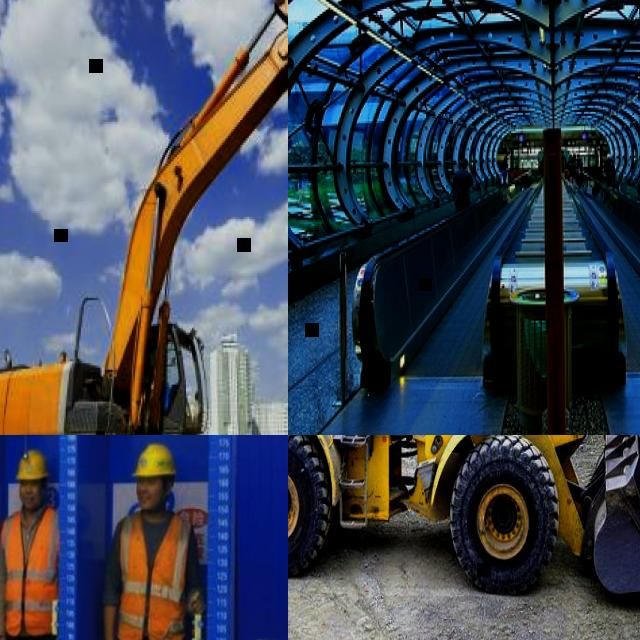Hardhat: (134, 446, 178, 479), (16, 452, 50, 483)
NO-Hardhat: (458, 160, 468, 170), (606, 156, 610, 162), (572, 158, 574, 163), (504, 166, 506, 170)
NO-Mask: (139, 489, 166, 510), (20, 490, 44, 511)
NO-Safety Vest: (454, 169, 469, 204), (604, 160, 612, 174), (570, 163, 577, 177), (502, 170, 506, 178)
Person: (104, 443, 204, 640), (0, 452, 61, 640), (452, 160, 474, 212), (604, 155, 614, 187), (570, 157, 578, 183), (502, 166, 506, 184)
Safety Vest: (118, 512, 192, 640), (1, 510, 61, 637)
vehicle: (0, 0, 288, 435), (288, 435, 640, 617)
